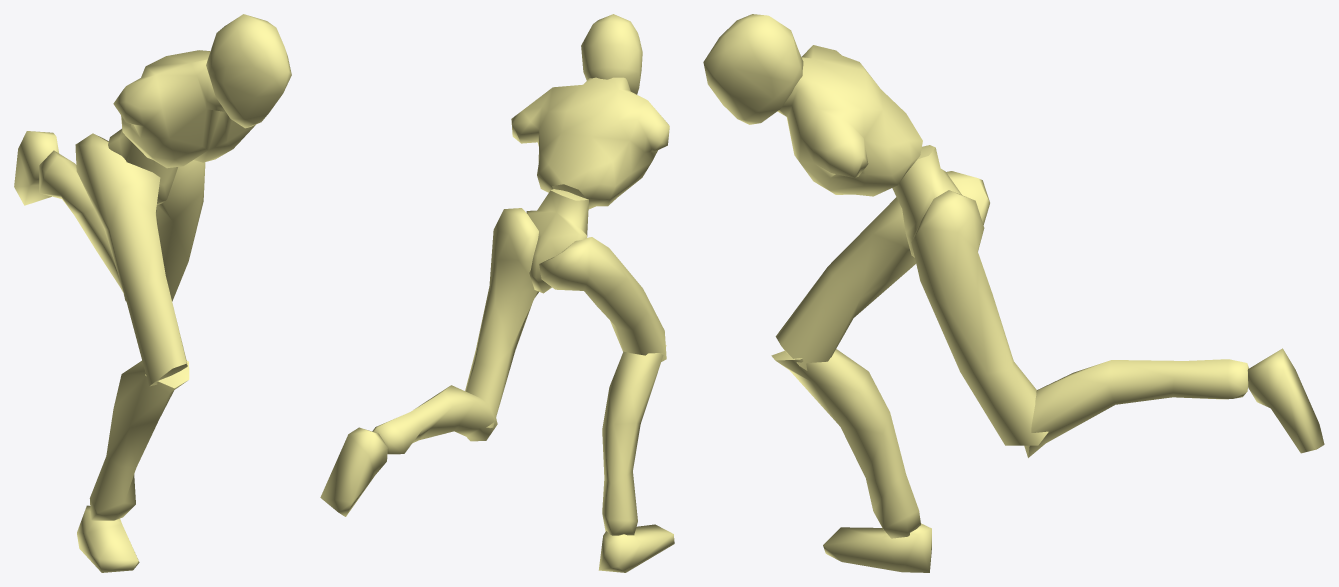
The model's file is filth4.obj.
3 renders of one model, left to right at view 1: azimuth 30°, elevation 25°; view 2: azimuth 150°, elevation 25°; view 3: azimuth 270°, elevation 25°, orthographic. The views are drawn at different scales.
Parts seen in each view (by area): view 1: Melee_Husk; view 2: Melee_Husk; view 3: Melee_Husk.
Part boxes in pixels (x1,y1,x2,y2): Melee_Husk: [14, 14, 291, 572]; Melee_Husk: [320, 14, 674, 572]; Melee_Husk: [703, 14, 1324, 572].
Bounding box in the file's own units: 22.17 × 65.43 × 62.39.
